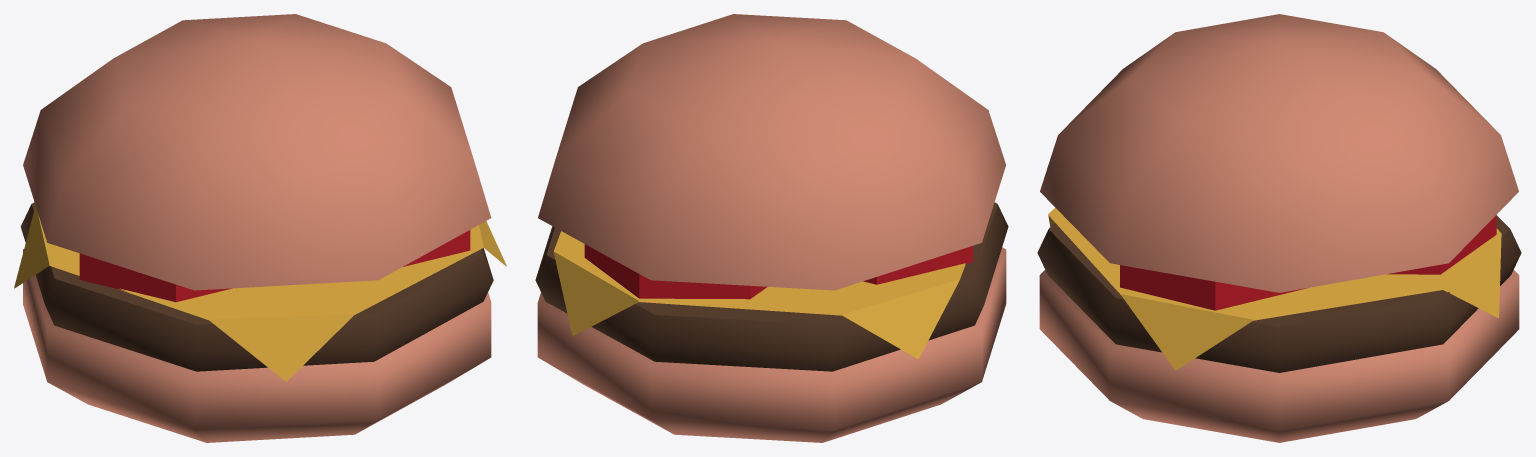
Rendered from Burger.fbx.
The picture shows the model from 3 angles, left to right: view 1: azimuth 30°, elevation 25°; view 2: azimuth 150°, elevation 25°; view 3: azimuth 270°, elevation 25°; orthographic projection.
Visible parts, largest first — view 1: Burger; view 2: Burger; view 3: Burger.
Part boxes in pixels (bbox=[...]): Burger: bbox=[14, 14, 506, 442]; Burger: bbox=[535, 14, 1008, 442]; Burger: bbox=[1037, 14, 1521, 442].
Bounding box in the file's own units: 195 × 141 × 195.
